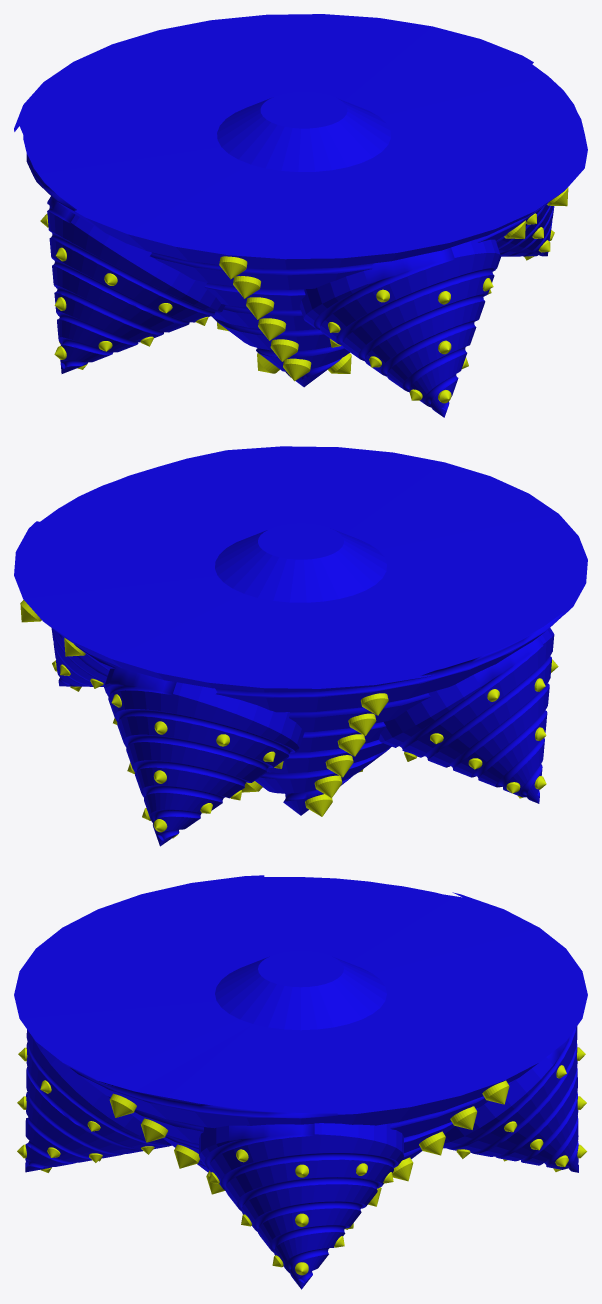
The model's file is big drill head lvl 4.fbx.
3 views of the same model, one above another, from view 1: azimuth 30°, elevation 25°; view 2: azimuth 150°, elevation 25°; view 3: azimuth 270°, elevation 25° (orthographic).
Visible parts, largest first — view 1: drill head; view 2: drill head; view 3: drill head.
Part boxes in pixels (x1,y1,x2,y2): drill head: [14, 14, 587, 417]; drill head: [14, 446, 587, 846]; drill head: [14, 875, 587, 1289].
Bounding box in the file's own units: 417 × 221 × 420.
